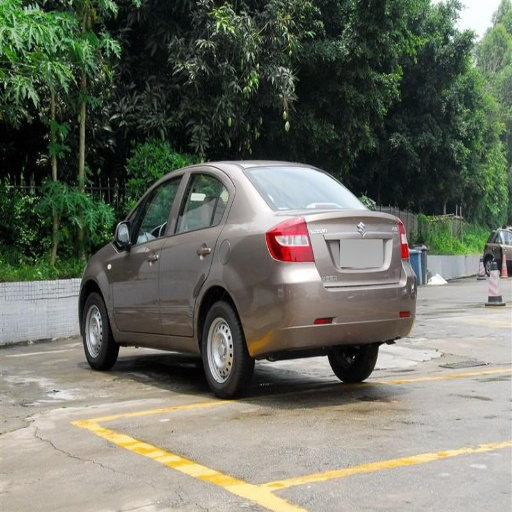back_bumper: (241, 261, 416, 354)
back_glass: (243, 165, 350, 209)
back_left_door: (159, 169, 229, 335)
